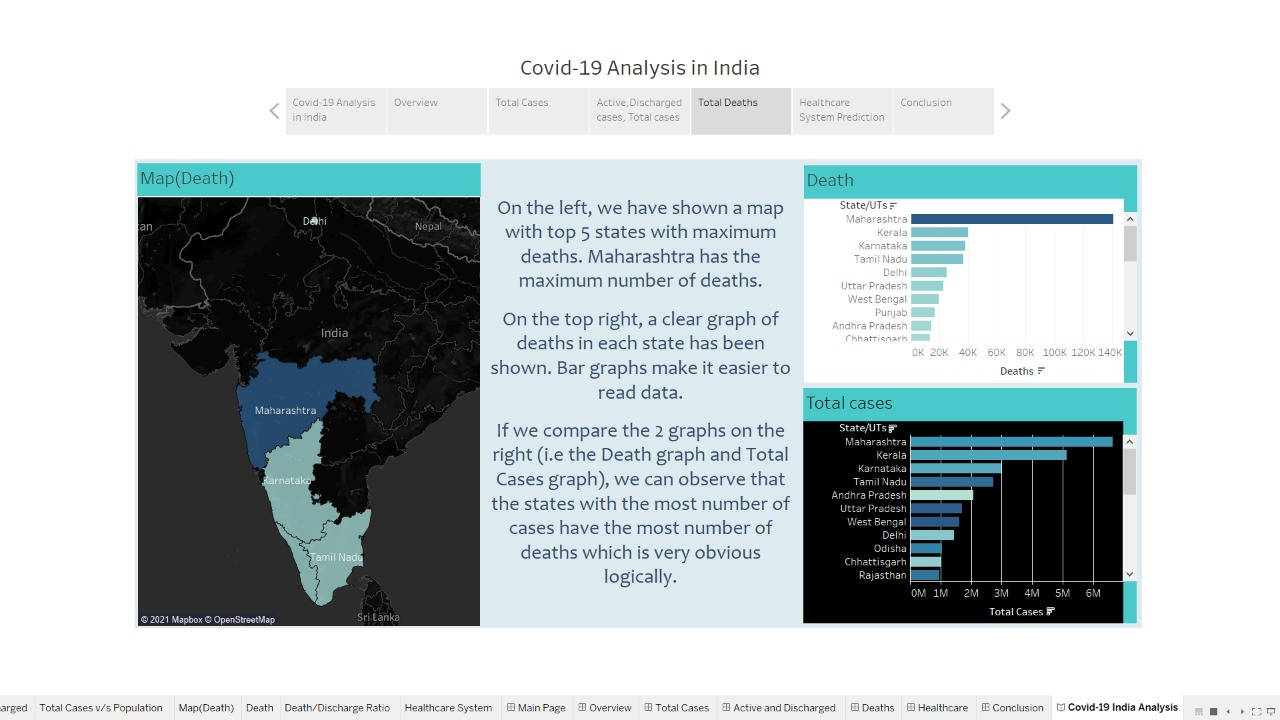

What the dashboard file says about the page in this screenshot:
{"tool":"tableau","page":{"name":"Deaths","canvas":[1500,700],"ordinal":2},"visuals":[{"type":"worksheet","title":"Death","mark":"Automatic","rows":["State/UTs"],"cols":["Deaths"],"box":[996,6,500,326]},{"type":"text","box":[521,23,460,651]},{"type":"worksheet","title":"Total cases","mark":"Automatic","rows":["State/UTs"],"cols":["Total Cases"],"box":[995,340,500,353]}]}

Visuals, with their boxes on the page's 1500x700 design canvas (x1, y1, x2, y2). These are canvas units, not pixel positions in the 1280x720 screenshot, which may show the page scaled, cropped or inside an application window:
"Death" worksheet: bbox=(996, 6, 1496, 332)
text: bbox=(521, 23, 981, 674)
"Total cases" worksheet: bbox=(995, 340, 1495, 693)
